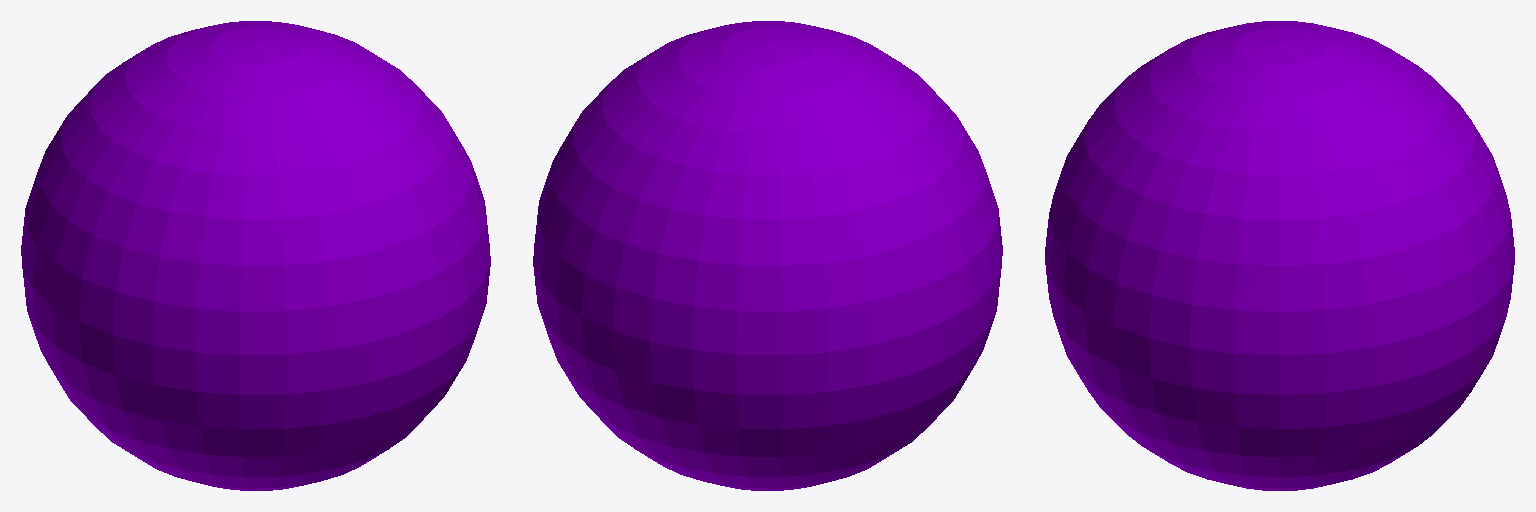
Rendered from earth.obj.
3 renders of one model, left to right at view 1: azimuth 30°, elevation 25°; view 2: azimuth 150°, elevation 25°; view 3: azimuth 270°, elevation 25°, orthographic.
Visible parts, largest first — view 1: Sphere; view 2: Sphere; view 3: Sphere.
Part boxes in pixels (x1,y1,x2,y2): Sphere: (21, 21, 490, 490); Sphere: (533, 21, 1002, 490); Sphere: (1045, 21, 1514, 490).
Size of the model in its own units: 2 by 2 by 2.